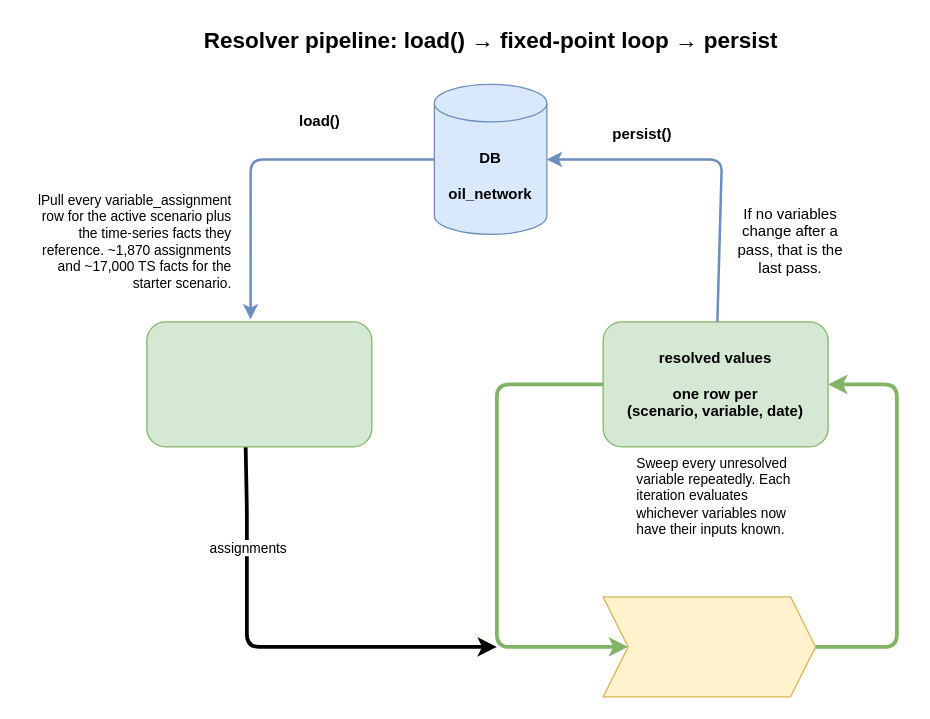
This 930x719 diagram has some shape labels left out. Here are the shapes that lost their labels. From the top down, the centre of each, then its label:
At [259,384]: "assignments ~1,870 rows + ~17,000 TS facts".
At [709,646]: "fixed point loop".
